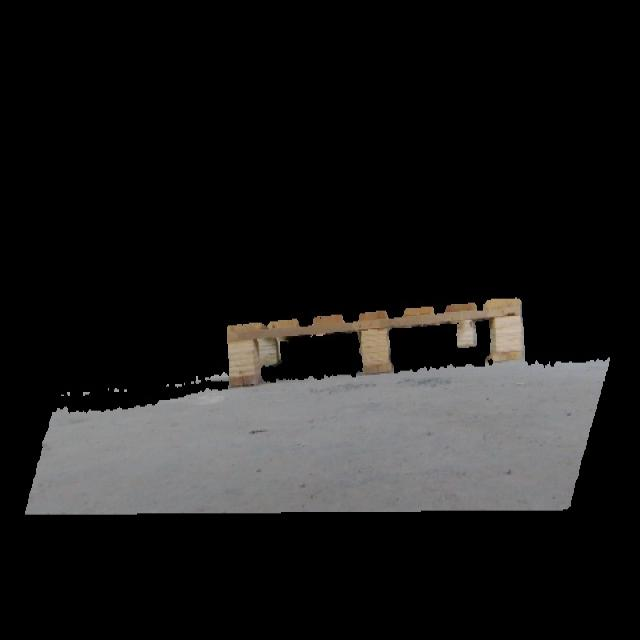block: (490, 303, 525, 365), (227, 328, 260, 386), (360, 313, 390, 372), (454, 314, 476, 353)
front: (226, 296, 528, 388)
